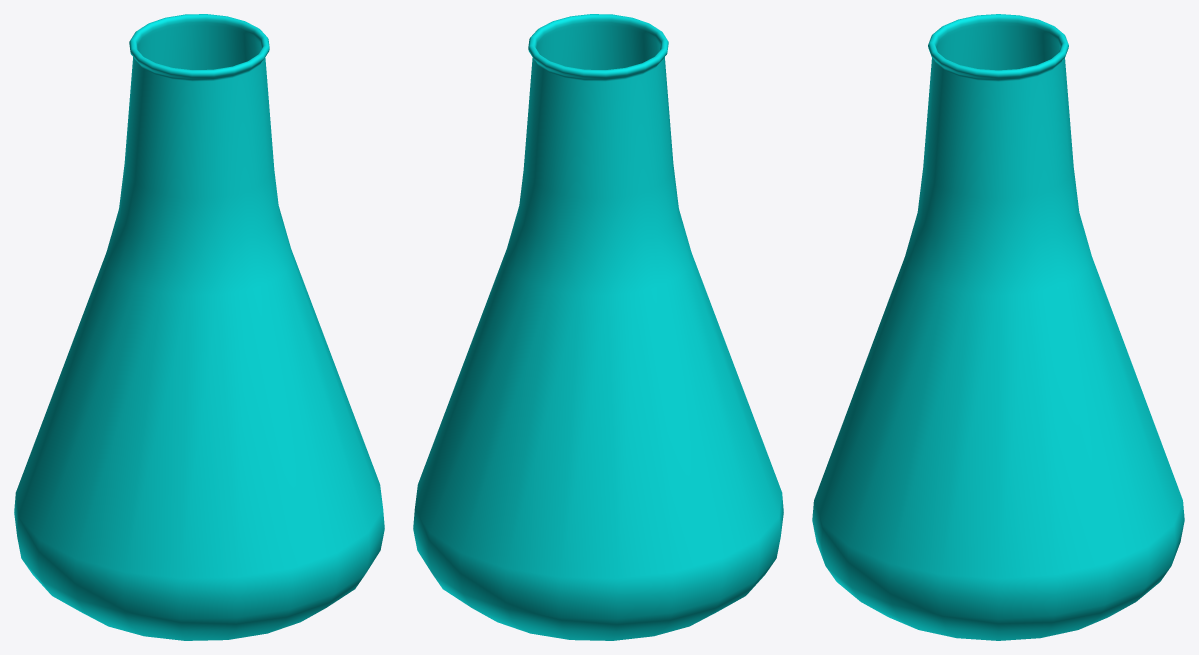
Rendered from SM_Flask2.fbx.
3 views of the same model, side by side, from view 1: azimuth 30°, elevation 25°; view 2: azimuth 150°, elevation 25°; view 3: azimuth 270°, elevation 25° (orthographic).
Visible parts, largest first — view 1: Flask2; view 2: Flask2; view 3: Flask2.
Boxes of the visible parts, left/top/right/bottom form: Flask2: left=14, top=14, right=384, bottom=640; Flask2: left=413, top=14, right=783, bottom=640; Flask2: left=812, top=14, right=1184, bottom=640.
Size of what is drawn, in the model's own units: 9.52 by 15.35 by 9.52.
